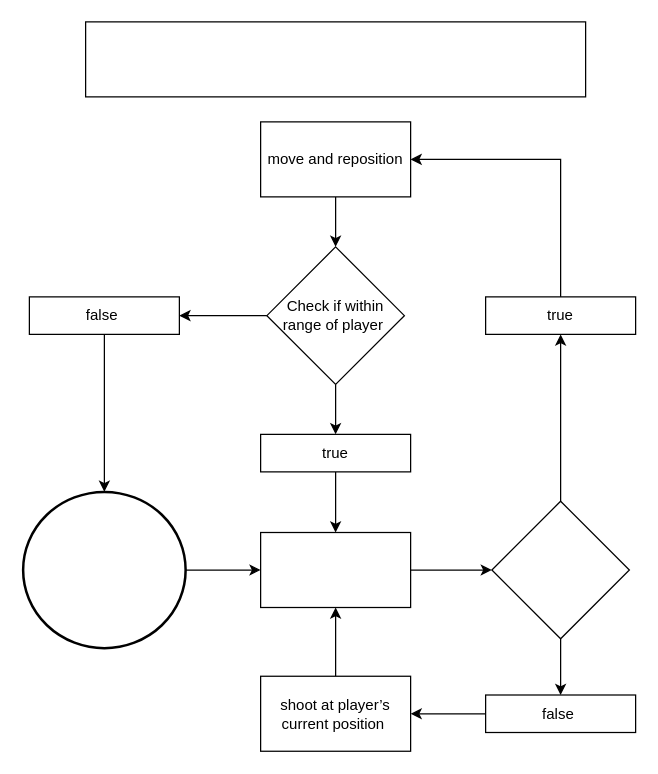
Image size: 658x774. Some labels were removed from this diagram. Each missing label, with the centre of its shape:
"aim at player" belongs at point 335,569.
"check for any obstacles in line of fire" belongs at point 560,569.
"Enemy controller flowchart" belongs at point 335,59.
"move within range of player" belongs at point 103,569.
